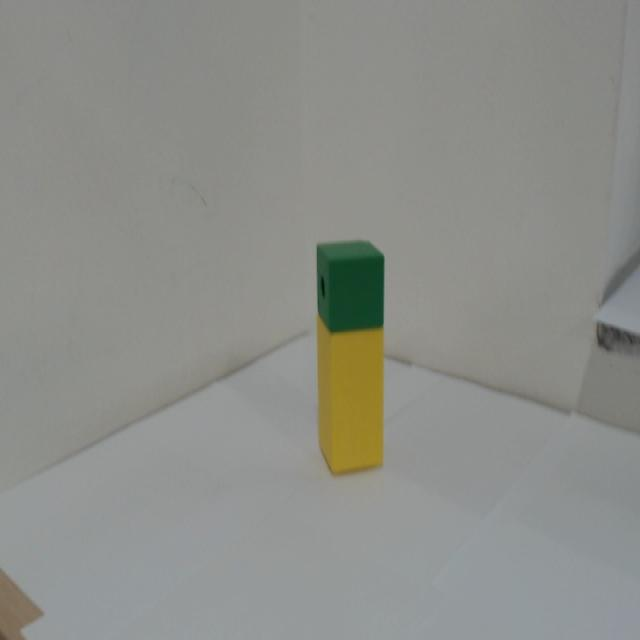cube: (313, 235, 386, 335)
